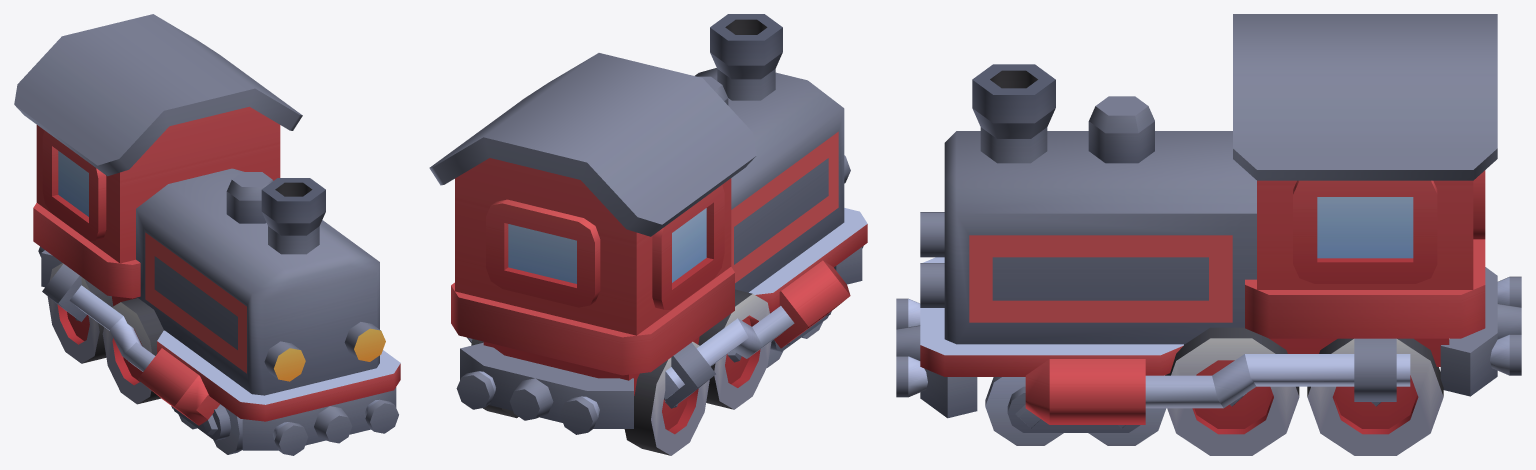
File: kenney-train-train-locomotive-b.glb
The picture shows the model from 3 angles, left to right: view 1: azimuth 30°, elevation 25°; view 2: azimuth 150°, elevation 25°; view 3: azimuth 270°, elevation 25°; orthographic projection. The views are drawn at different scales.
Visible parts, largest first — view 1: train-locomotive-b; view 2: train-locomotive-b; view 3: train-locomotive-b.
Part boxes in pixels (x1,y1,x2,y2): train-locomotive-b: [14, 14, 400, 455]; train-locomotive-b: [429, 14, 867, 455]; train-locomotive-b: [896, 14, 1521, 455].
Size of the model in its own units: 1.32 by 1.66 by 2.6.
Materials: 1 (1 with a texture image).
